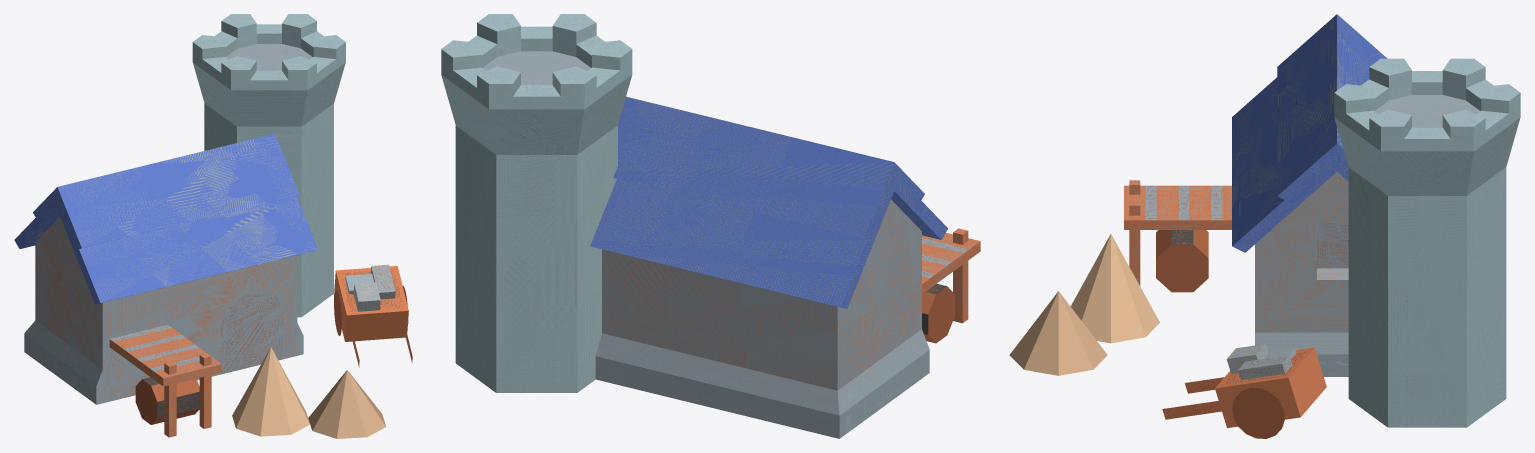
The model's file is Storehouse.fbx.
3 renders of one model, left to right at view 1: azimuth 30°, elevation 25°; view 2: azimuth 150°, elevation 25°; view 3: azimuth 270°, elevation 25°, orthographic. The views are drawn at different scales.
Visible parts, largest first — view 1: Group12, Group5, Group10, Group6, Group4, Group11, Group8, Group1; view 2: Group12, Group5, Group10, Group8; view 3: Group5, Group12, Group10, Group6, Group4, Group11, Group8, Group2, Group1.
Boxes of the visible parts, left/top/right/bottom form: Group12: left=14, top=134, right=318, bottom=404; Group5: left=192, top=14, right=345, bottom=317; Group10: left=109, top=325, right=221, bottom=437; Group6: left=232, top=347, right=309, bottom=436; Group4: left=334, top=266, right=412, bottom=367; Group11: left=308, top=370, right=386, bottom=438; Group8: left=135, top=377, right=199, bottom=424; Group1: left=345, top=264, right=395, bottom=311; Group12: left=590, top=96, right=947, bottom=438; Group5: left=441, top=14, right=632, bottom=392; Group10: left=922, top=228, right=980, bottom=323; Group8: left=922, top=284, right=955, bottom=343; Group5: left=1334, top=58, right=1520, bottom=427; Group12: left=1232, top=14, right=1386, bottom=376; Group10: left=1124, top=180, right=1231, bottom=285; Group6: left=1070, top=234, right=1159, bottom=343; Group4: left=1162, top=347, right=1326, bottom=428; Group11: left=1009, top=291, right=1107, bottom=375; Group8: left=1156, top=230, right=1208, bottom=292; Group2: left=1232, top=387, right=1284, bottom=438; Group1: left=1226, top=344, right=1296, bottom=379.
Bounding box in the file's own units: 0.8314 × 0.62 × 0.9348.
